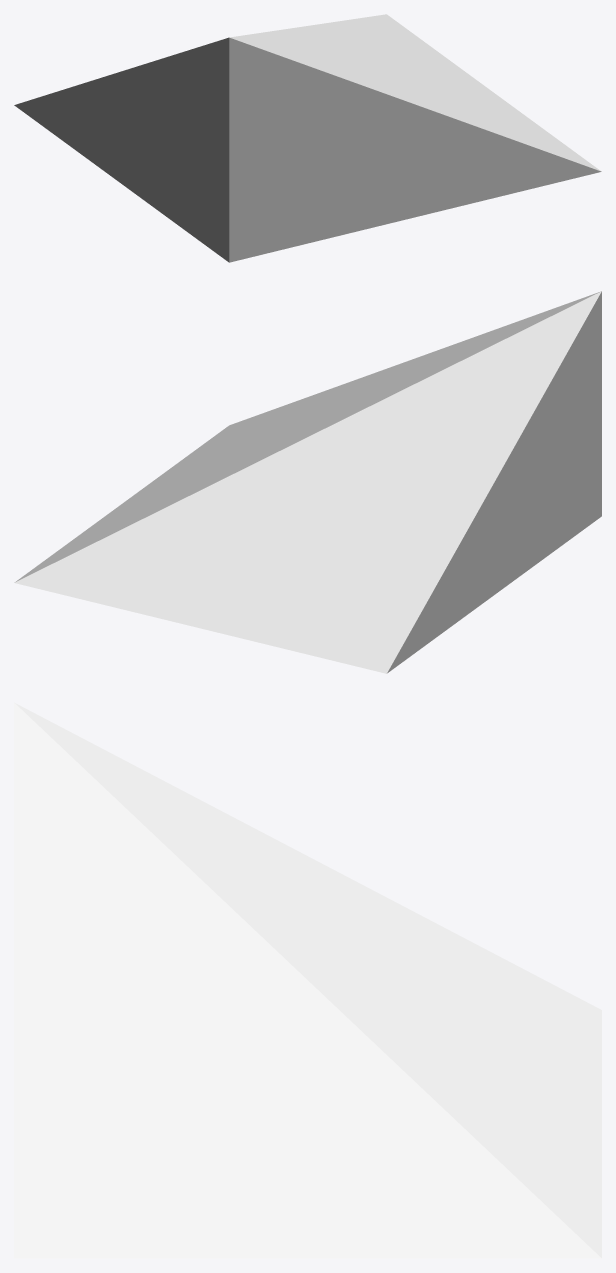
The model's file is KickerAngle_30deg_20x20x11_5.fbx.
3 renders of one model, top to bottom at view 1: azimuth 30°, elevation 25°; view 2: azimuth 150°, elevation 25°; view 3: azimuth 270°, elevation 25°, orthographic. The views are drawn at different scales.
Parts seen in each view (by area): view 1: KickerAngle_30deg_20x20x11,5; view 2: KickerAngle_30deg_20x20x11,5; view 3: KickerAngle_30deg_20x20x11,5.
Part boxes in pixels (x1=…): KickerAngle_30deg_20x20x11,5: x1=14, y1=14, x2=601, y2=262; KickerAngle_30deg_20x20x11,5: x1=14, y1=291, x2=601, y2=673; KickerAngle_30deg_20x20x11,5: x1=14, y1=702, x2=601, y2=1258.
Bounding box in the file's own units: 20 × 11.55 × 20.
